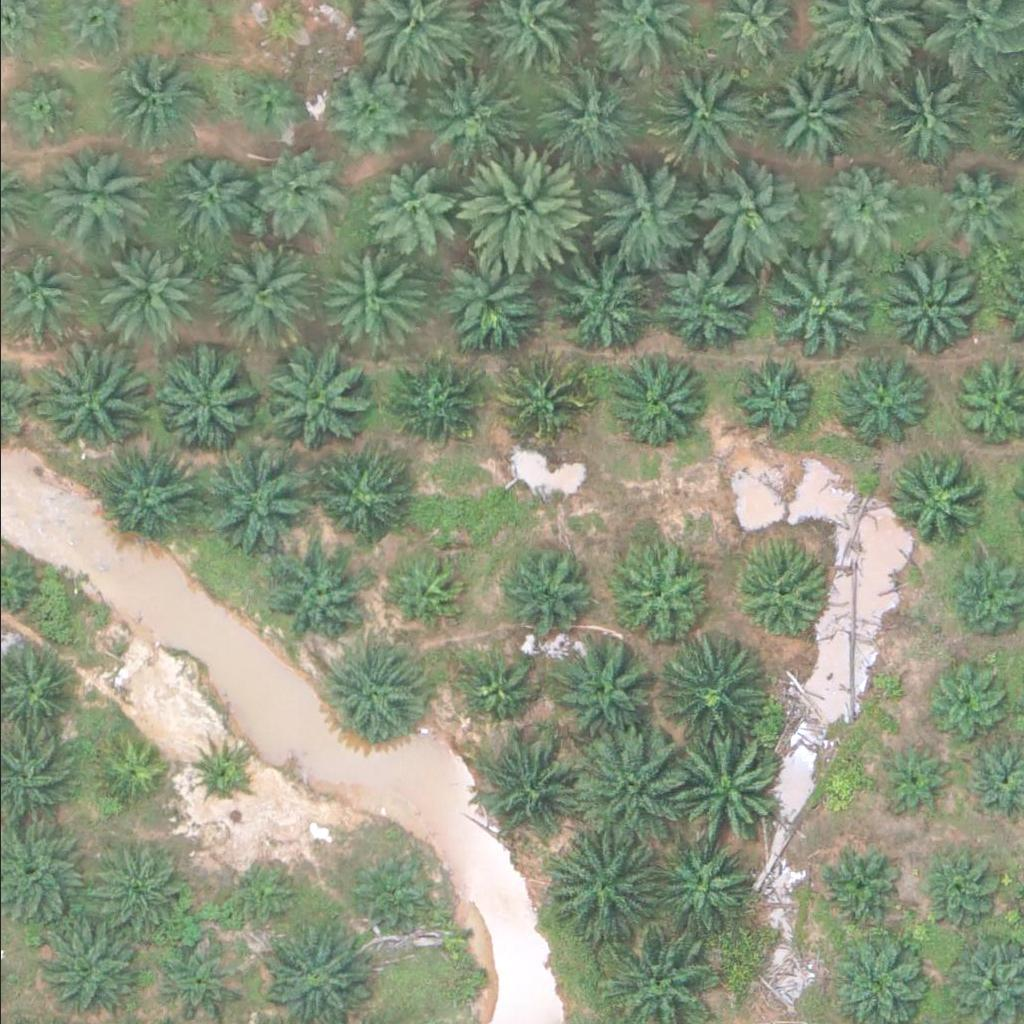Kelapa_Sawit: (457, 152, 583, 277), (545, 826, 659, 939), (591, 154, 705, 267), (862, 55, 976, 168), (204, 443, 317, 556), (260, 344, 373, 457), (149, 348, 262, 461), (644, 56, 757, 169), (532, 60, 645, 173), (650, 633, 763, 746), (761, 248, 874, 361), (686, 161, 799, 274), (875, 254, 989, 366), (571, 734, 684, 846), (37, 347, 150, 459), (667, 733, 780, 845), (553, 634, 654, 734), (33, 917, 134, 1017), (95, 442, 196, 542), (611, 354, 712, 454), (552, 261, 653, 361), (315, 247, 416, 347), (203, 242, 304, 342), (95, 238, 196, 338), (423, 64, 524, 164), (322, 66, 423, 166), (652, 833, 753, 933), (881, 449, 982, 549), (759, 67, 860, 167), (108, 57, 209, 157), (479, 732, 579, 832), (319, 642, 419, 742), (86, 840, 186, 940), (611, 545, 711, 645), (266, 548, 366, 648), (646, 256, 746, 356), (446, 246, 546, 346), (44, 149, 144, 249), (726, 543, 826, 643), (826, 351, 926, 451), (344, 845, 432, 933), (506, 542, 594, 630), (311, 453, 399, 541), (500, 353, 588, 441), (248, 146, 336, 234), (811, 843, 899, 931), (731, 352, 819, 440), (160, 149, 249, 236), (392, 356, 480, 443), (368, 164, 456, 251), (925, 661, 1013, 748), (921, 841, 1009, 928), (917, 165, 1005, 252), (812, 170, 900, 257), (227, 65, 303, 140), (880, 744, 956, 819), (387, 554, 463, 629), (6, 72, 81, 147), (462, 649, 537, 724), (226, 857, 301, 932), (88, 733, 163, 808), (187, 742, 250, 805)
